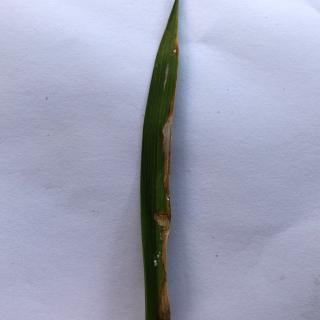Hawar-Daun: (160, 87, 177, 192), (153, 197, 173, 272), (157, 272, 172, 320), (171, 33, 181, 55)
